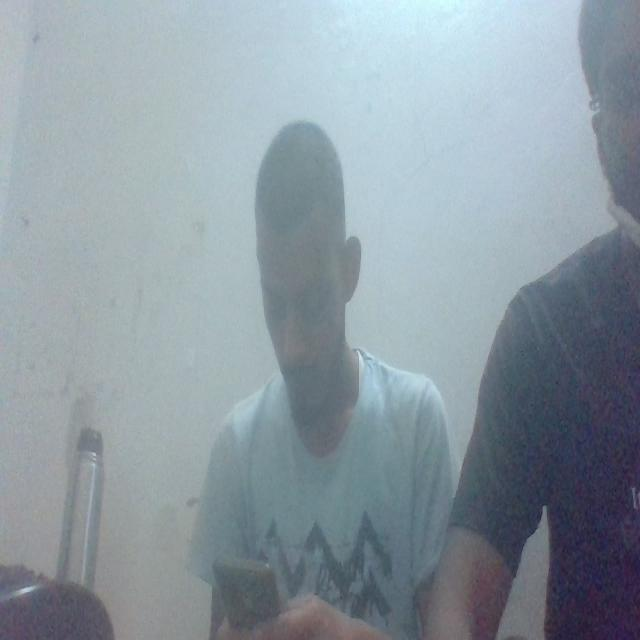Phone: (212, 554, 282, 640)
